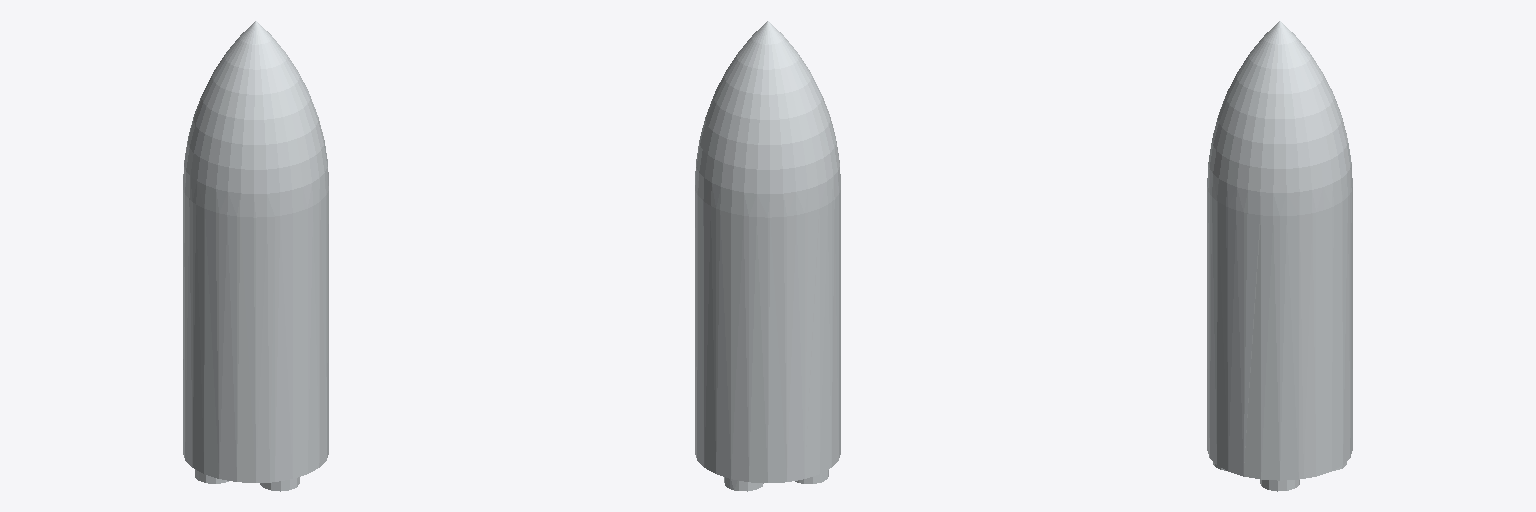
robot.urdf — F5:
<?xml version="1.0" encoding="utf-8"?>
<!-- This URDF was automatically created by SolidWorks to URDF Exporter! Originally created by [author] ([email redacted]) 
     Commit Version: 1.6.0-4-g7f85cfe  Build Version: 1.6.7995.38578
     For more information, please see http://wiki.ros.org/sw_urdf_exporter -->
<robot
  name="F5">

  <link name="base_link">
    <visual>
      <origin xyz="0 0 0" rpy="0 0 0"/>
      <geometry>
        <sphere radius="0.001"/>
      </geometry>
      <material name="black">
        <color rgba="0 0 0 1"/>
      </material>
    </visual>
  </link>




  <link
    name="rocket_body">
    <inertial>
      <origin
        xyz="-0.0093973 -0.41825 -6.5285E-18"
        rpy="0 0 0" />
      <mass
        value="45916" />
      <inertia
        ixx="129980"
        ixy="9.0137E-14"
        ixz="5.3634E-14"
        iyy="21586"
        iyz="3.9957E-12"
        izz="129980" />
    </inertial>
    <visual>
      <origin
        xyz="0 0 0"
        rpy="0 0 0" />
      <geometry>
        <mesh
          filename="rocket_body.STL" scale="0.1 0.1 0.1"/>
      </geometry>
      <material
        name="">
        <color
          rgba="0.89804 0.91765 0.92941 1" />
      </material>
    </visual>
    <collision>
      <origin
        xyz="0 0 0"
        rpy="0 0 0" />
      <geometry>
        <mesh
          filename="rocket_body.STL" scale="0.1 0.1 0.1" />
      </geometry>
    </collision>
  </link>


<joint name="floating_joint" type="floating">
  <parent link="base_link"/>
  <child link="rocket_body"/>
  <origin xyz="0 0 0" rpy="0 0 0"/>
</joint>

</robot>

--- Render facts (derived) ---
The picture shows the robot from 3 angles, left to right: view 1: azimuth 30°, elevation 25°; view 2: azimuth 150°, elevation 25°; view 3: azimuth 270°, elevation 25°; orthographic projection.
Robot: F5 — 2 links, 1 joints (1 floating); root link base_link; default pose: every joint at zero.
Visible links, largest first — view 1: rocket_body; view 2: rocket_body; view 3: rocket_body.
Link boxes in pixels (<box>): rocket_body: <box>183,21,328,491</box>; rocket_body: <box>695,21,840,491</box>; rocket_body: <box>1207,21,1352,491</box>.
Size in the robot's own frame: 0.2 by 0.2 by 0.67 metres.
1 mesh visuals loaded from 1 distinct referenced files (1 binary STL).